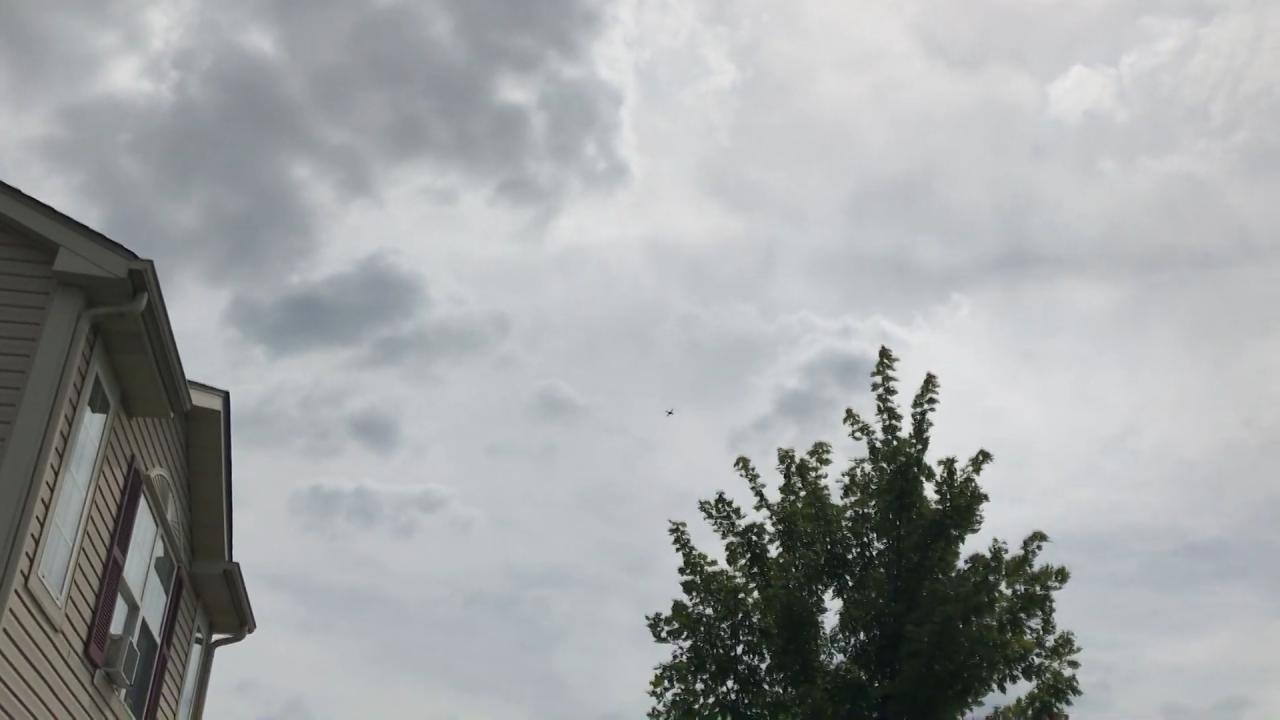Drone: (656, 401, 682, 424)
